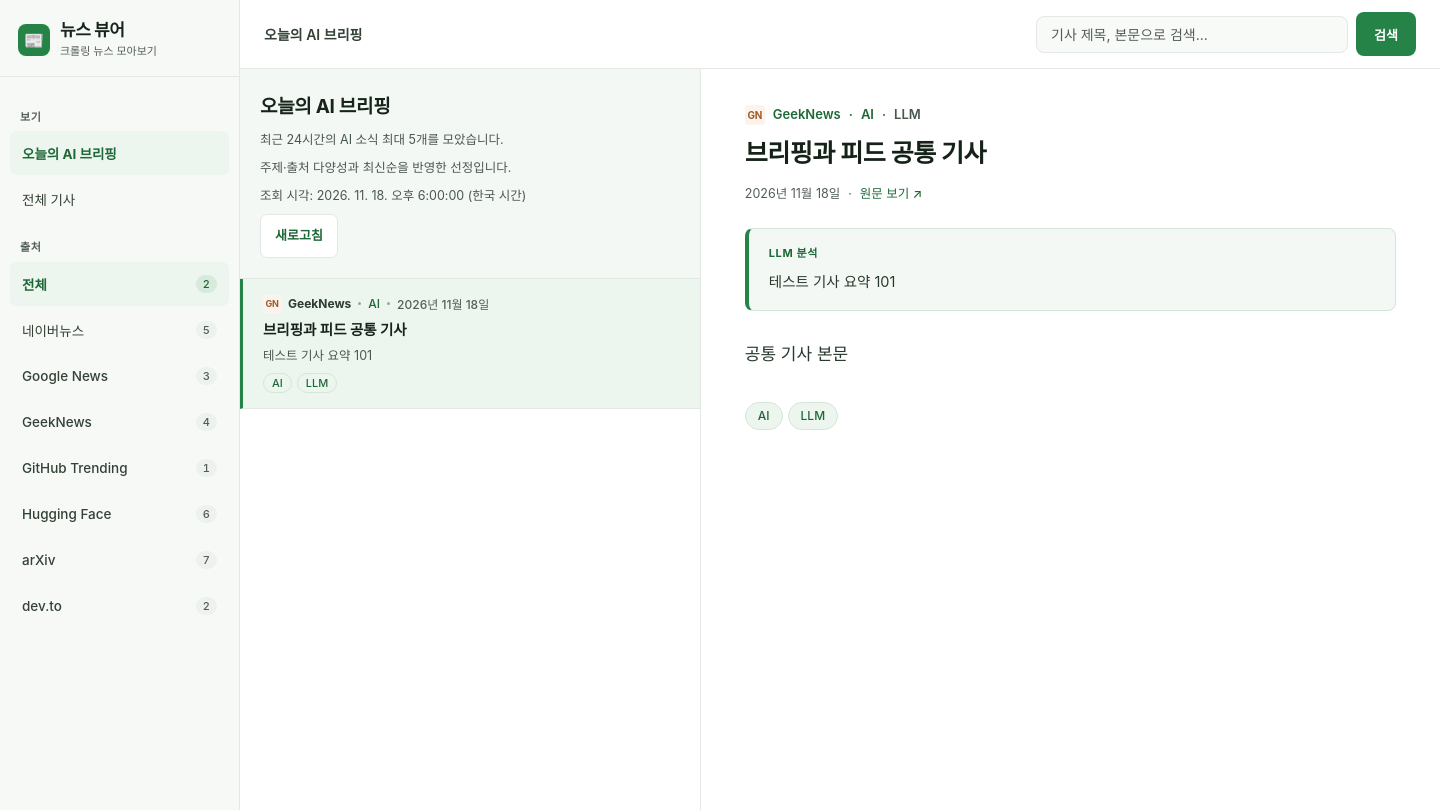
Test: 뉴스 뷰어 전체 화면 사용자 시나리오 › 브리핑 보기 중 백그라운드 기사 피드 응답이 늦게 도착해도 선택을 유지하고, 필터 전환 시 동일 ID 기사가 있으면 선택을 유지한다
Expected: the heading "브리핑과 피드 공통 기사" is shown, x1=745 y1=138 x2=986 y2=168
Click the button "GeekNews 4": [120, 422] box x1=10 y1=400 x2=229 y2=444
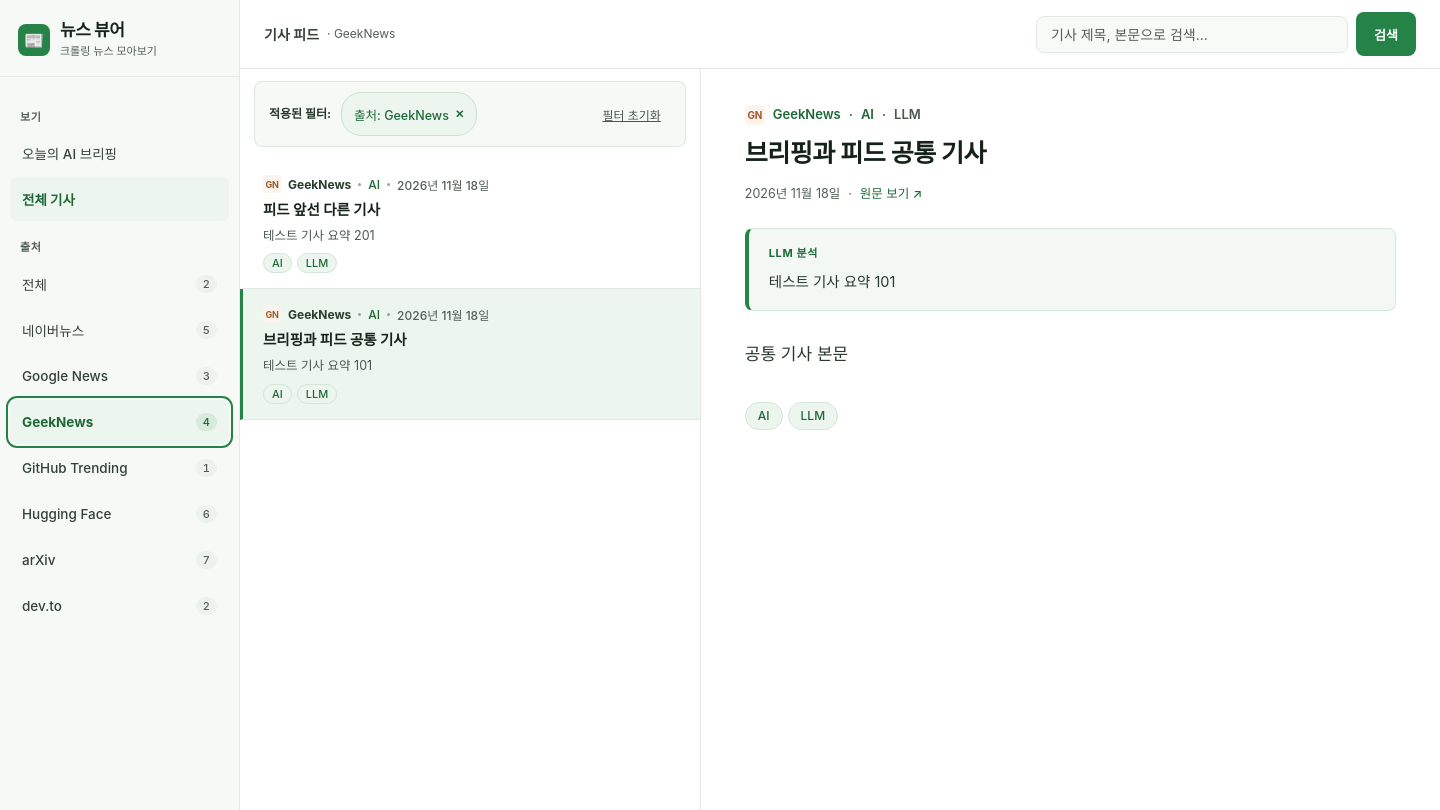
Expected: the heading "브리핑과 피드 공통 기사" is shown, x1=745 y1=138 x2=986 y2=168
Result: the text "피드 앞선 다른 기사" is shown at x1=263 y1=201 x2=380 y2=218
